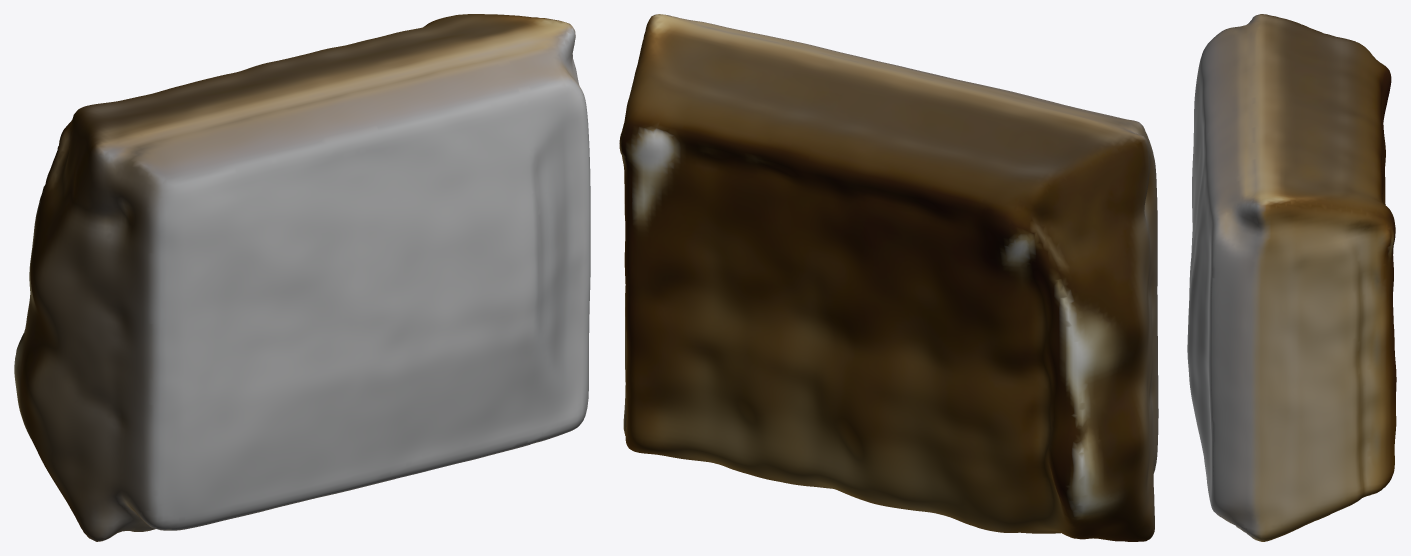
File: soap.glb
3 renders of one model, left to right at view 1: azimuth 30°, elevation 25°; view 2: azimuth 150°, elevation 25°; view 3: azimuth 270°, elevation 25°, orthographic. The views are drawn at different scales.
Size of the model in its own units: 0.9996 by 0.7531 by 0.4165.
